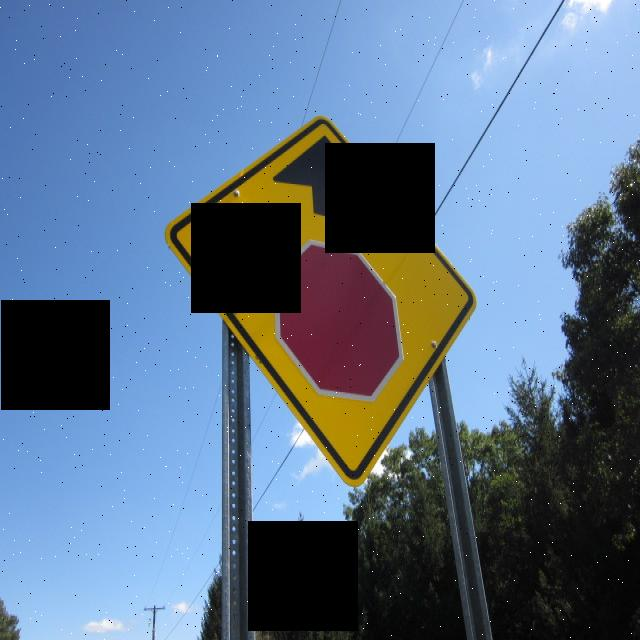stop: (274, 242, 404, 403)
warning: (163, 118, 477, 486)
